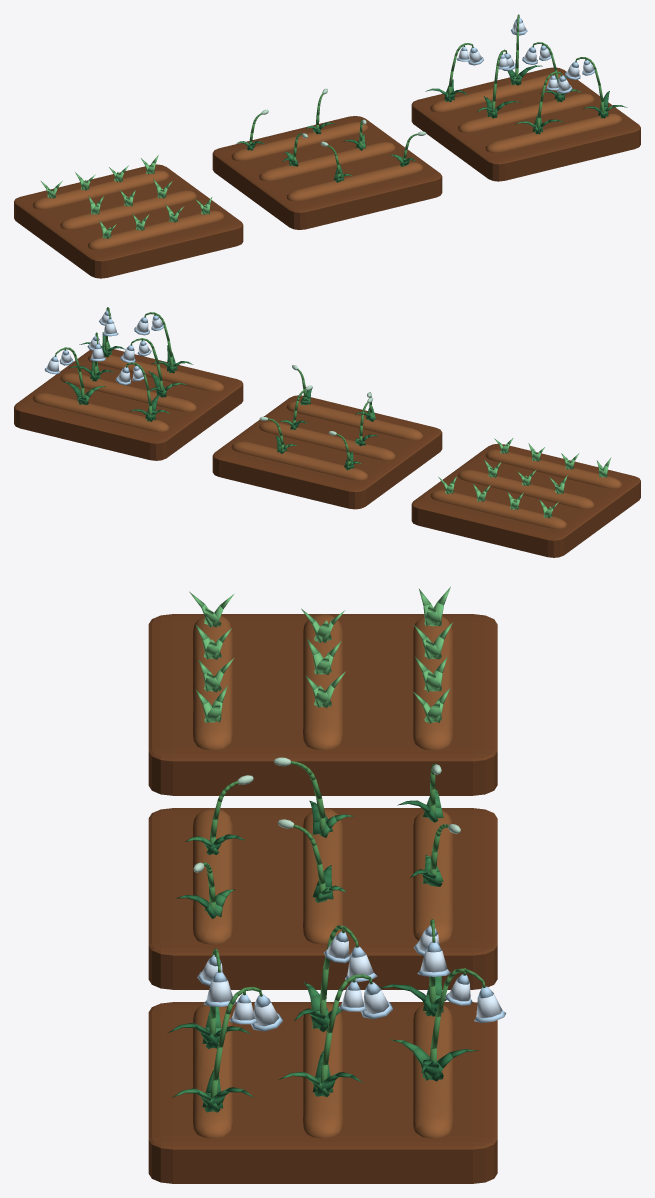
Rendered from cultures5.glb.
3 renders of one model, top to bottom at view 1: azimuth 30°, elevation 25°; view 2: azimuth 150°, elevation 25°; view 3: azimuth 270°, elevation 25°, orthographic. The views are drawn at different scales.
Visible parts, largest first — view 1: terre.001, terre, terre.002, sillon.005, sillon.008, sillon.001, sillon.004, sillon, sillon.002, sillon.007, sillon.003, sillon.006; view 2: terre.001, terre, terre.002, sillon.003, sillon.006, sillon.001, sillon.002, sillon, sillon.005, sillon.004, sillon.007, sillon.008; view 3: terre, terre.002, terre.001, sillon.003, sillon.006, sillon.005, sillon.001, sillon.004, sillon.002, sillon.007, sillon, sillon.008 (+1 smaller).
Part boxes in pixels (x1,y1,x2,y2): terre.001: (212, 116, 442, 229); terre: (14, 164, 243, 278); terre.002: (411, 67, 640, 181); sillon.005: (286, 162, 423, 201); sillon.008: (485, 113, 622, 152); sillon.001: (60, 190, 196, 229); sillon.004: (259, 142, 395, 181); sillon: (33, 170, 169, 209); sillon.002: (88, 210, 224, 249); sillon.007: (458, 93, 594, 132); sillon.003: (231, 122, 368, 160); sillon.006: (430, 73, 566, 112); terre.001: (212, 395, 442, 509); terre: (411, 444, 640, 557); terre.002: (14, 349, 243, 460); sillon.003: (231, 441, 368, 480); sillon.006: (33, 393, 169, 432); sillon.001: (458, 469, 594, 508); sillon.002: (485, 449, 621, 488); sillon: (430, 490, 566, 529); sillon.005: (286, 401, 423, 440); sillon.004: (259, 421, 395, 460); sillon.007: (60, 372, 196, 411); sillon.008: (88, 354, 224, 391); terre: (148, 614, 497, 795); terre.002: (148, 1002, 497, 1183); terre.001: (148, 808, 497, 989); sillon.003: (413, 810, 452, 943); sillon.006: (413, 1004, 452, 1138); sillon.005: (193, 808, 232, 944); sillon.001: (303, 614, 342, 750); sillon.004: (303, 808, 342, 944); sillon.002: (193, 615, 232, 750); sillon.007: (303, 1002, 342, 1138); sillon: (413, 616, 452, 750); sillon.008: (193, 1004, 232, 1138).
Size of the model in its own units: 6.9 by 1.03 by 1.95.
